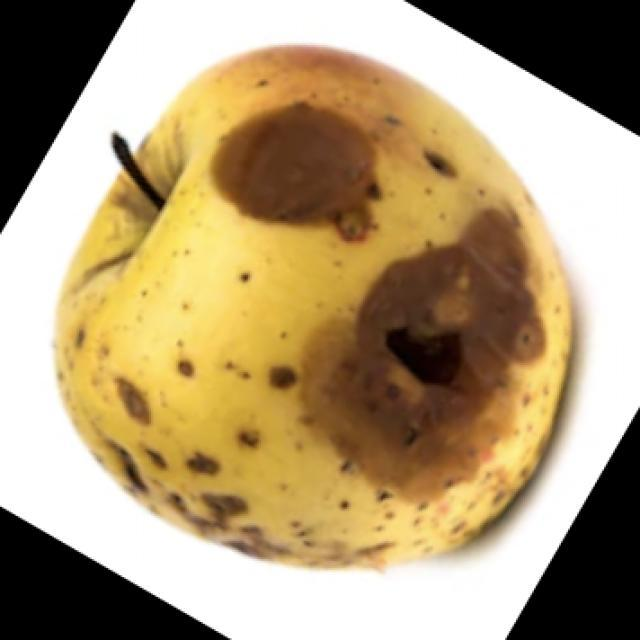Rotten: (72, 65, 580, 567)
